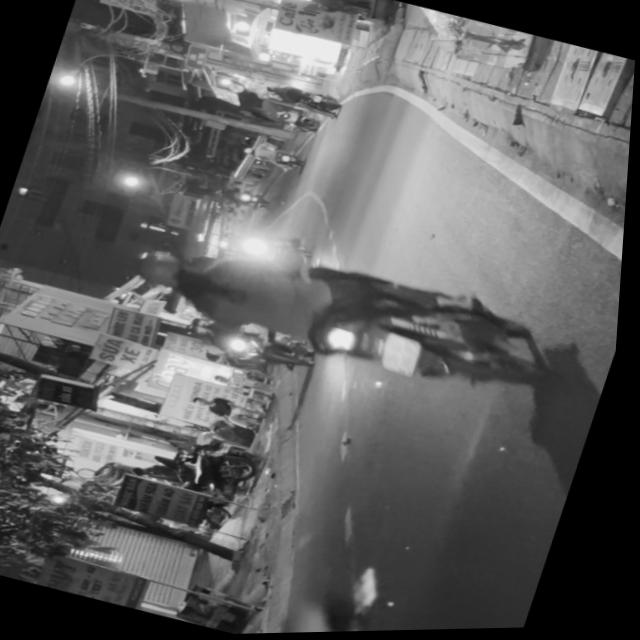helmet: (129, 244, 206, 299)
licenseplate: (109, 199, 628, 440)
nohelmet: (381, 333, 428, 378)
